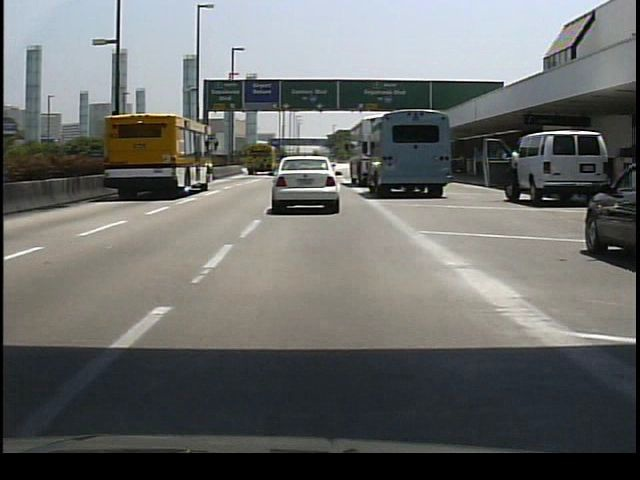person: (506, 137, 524, 211)
